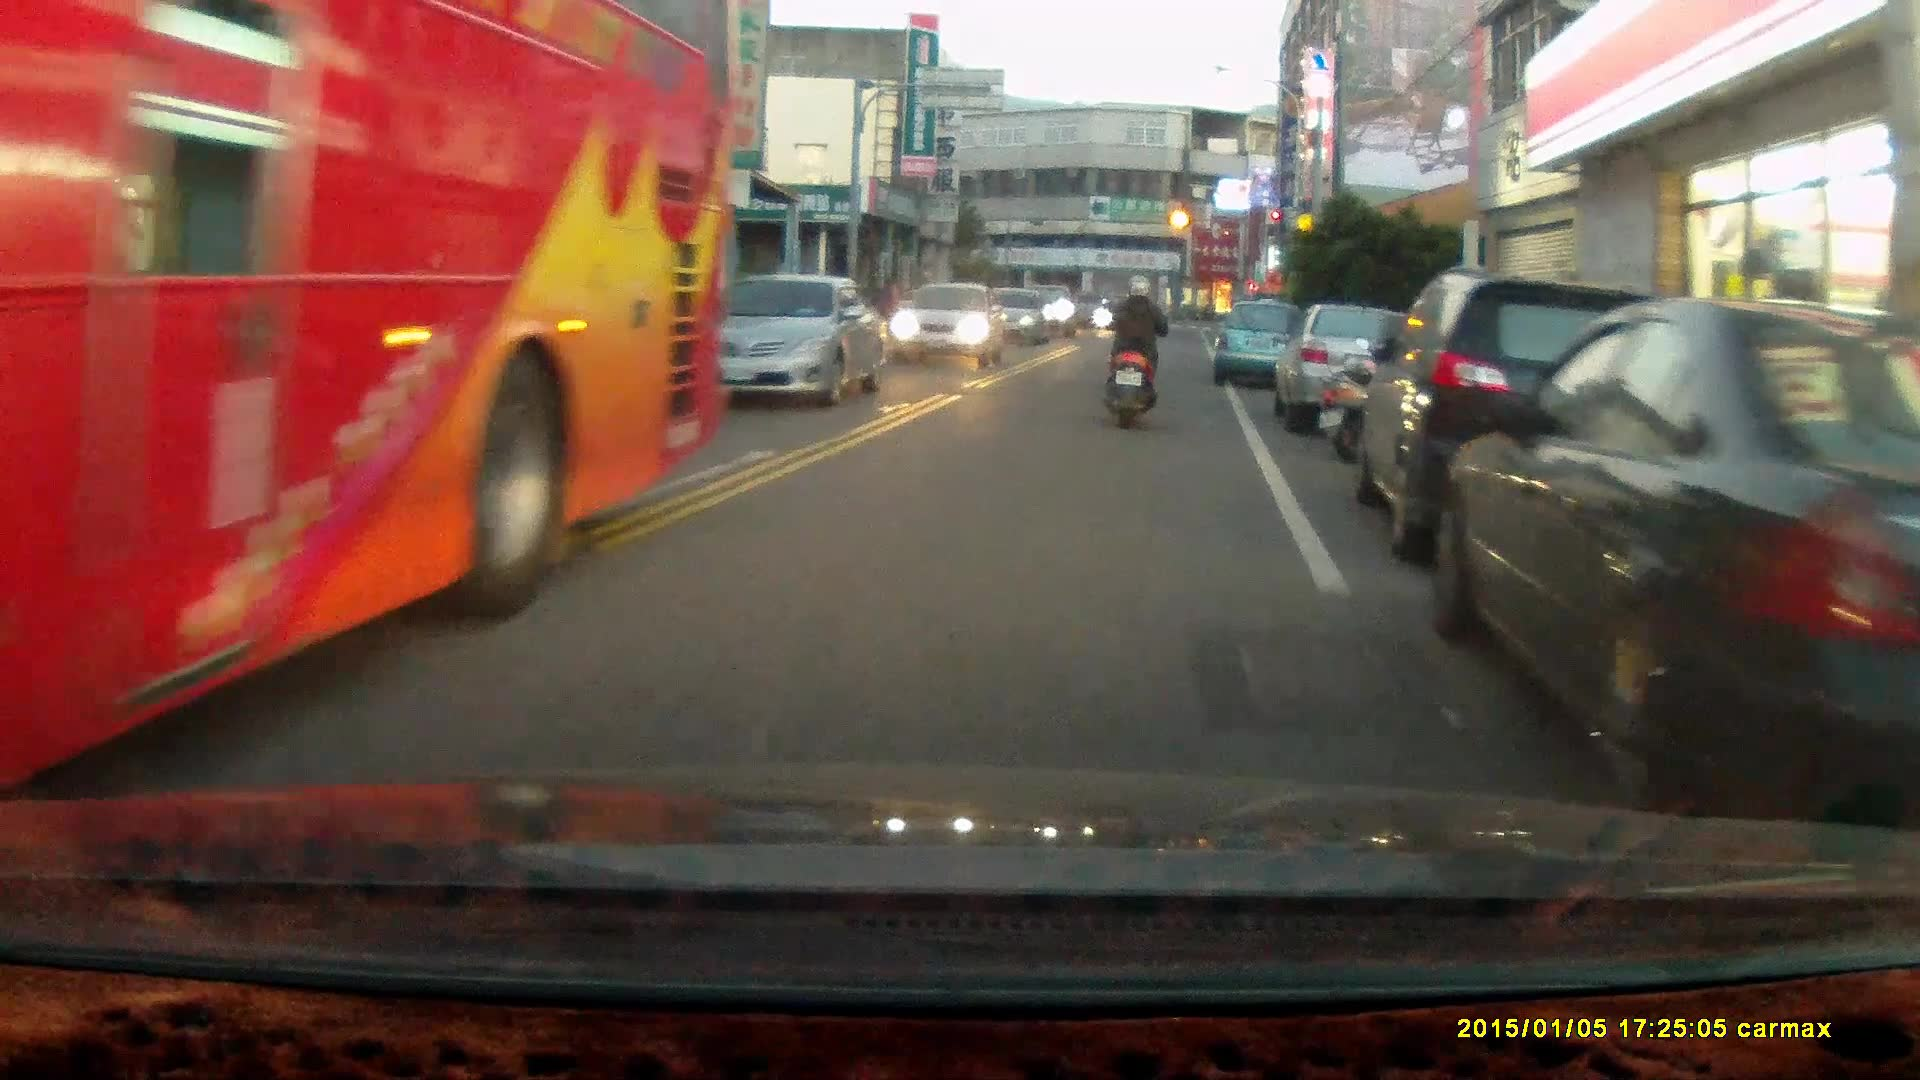rider: (1096, 271, 1168, 429)
vehicle: (1, 9, 733, 785), (1430, 295, 1920, 832), (1346, 263, 1773, 567), (672, 276, 883, 404), (1278, 304, 1450, 437), (890, 282, 1008, 371), (1208, 300, 1305, 389)
